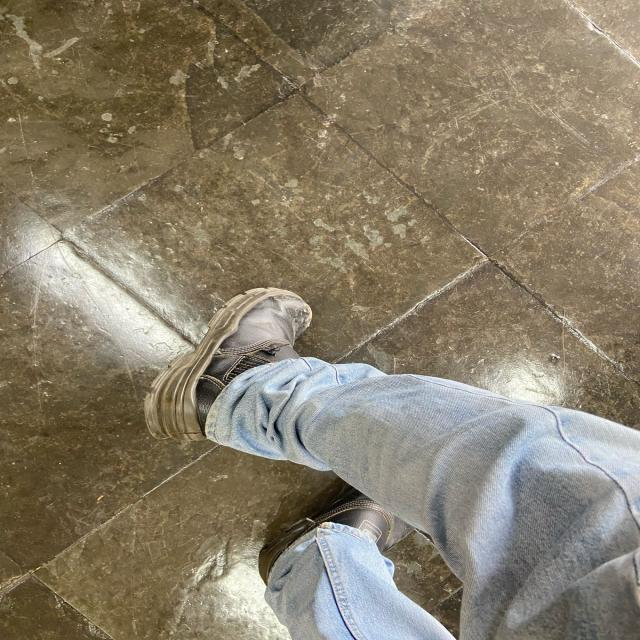BOTA: (138, 285, 321, 442), (250, 478, 434, 592)
